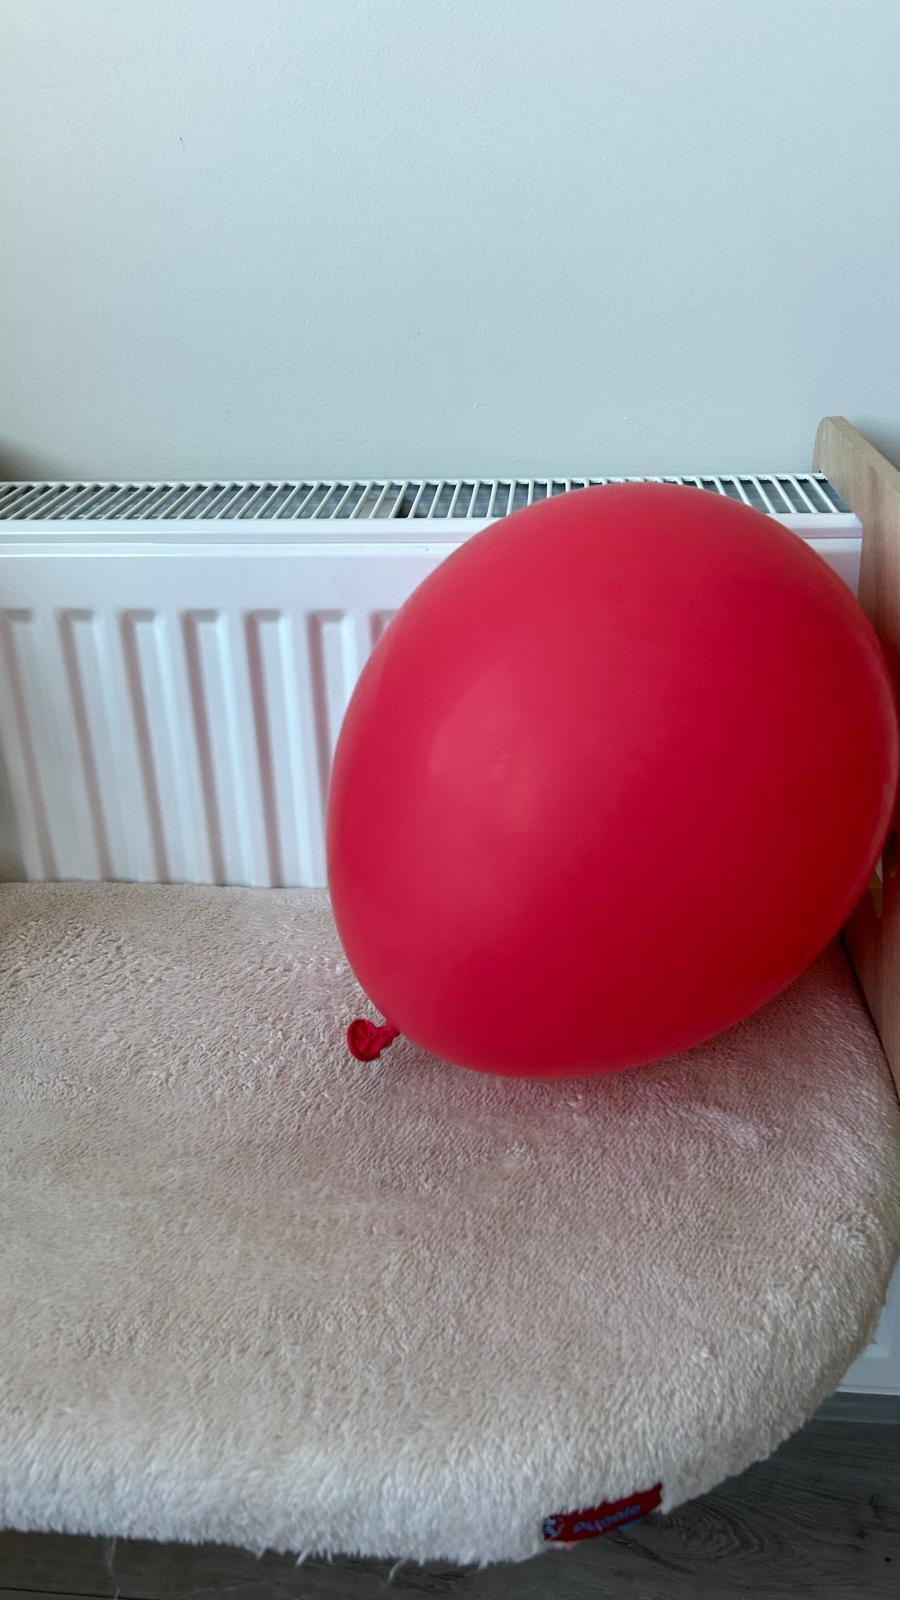red: (327, 478, 900, 1082)
